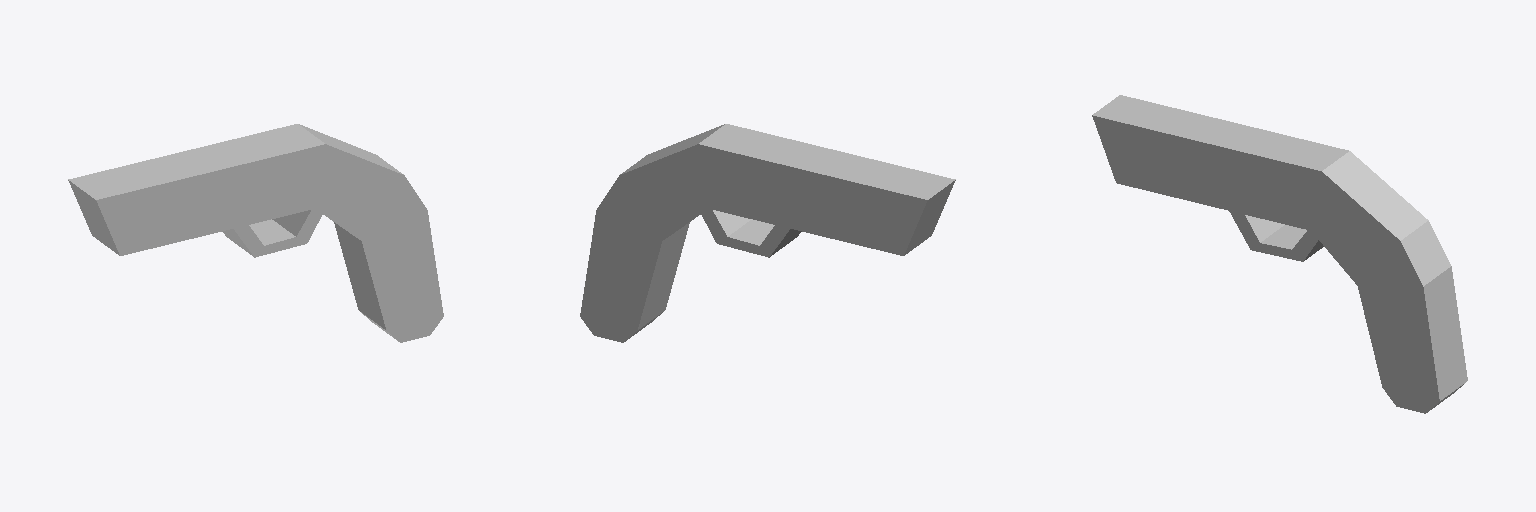
Rendered from roughPistol.obj.
The picture shows the model from 3 angles: view 1: azimuth 30°, elevation 25°; view 2: azimuth 150°, elevation 25°; view 3: azimuth 330°, elevation 25°; orthographic projection.
Parts seen in each view (by area): view 1: Cube; view 2: Cube; view 3: Cube.
Part boxes in pixels (bbox=[...]): Cube: bbox=[68, 124, 443, 342]; Cube: bbox=[580, 124, 955, 342]; Cube: bbox=[1092, 95, 1467, 413].
Bounding box in the file's own units: 0.4538 × 0.2706 × 0.0636.